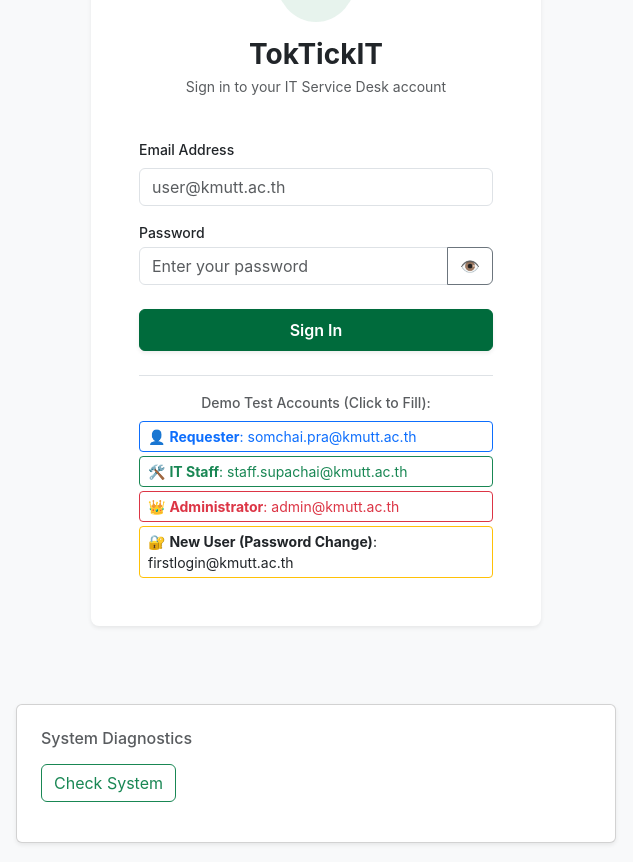
it: TokTickIT App Component › API failure displays a useful error message
(page scrolled)
Click the button "Check System" at (108, 783), box left=41, top=764, right=176, bottom=802
(page scrolled)
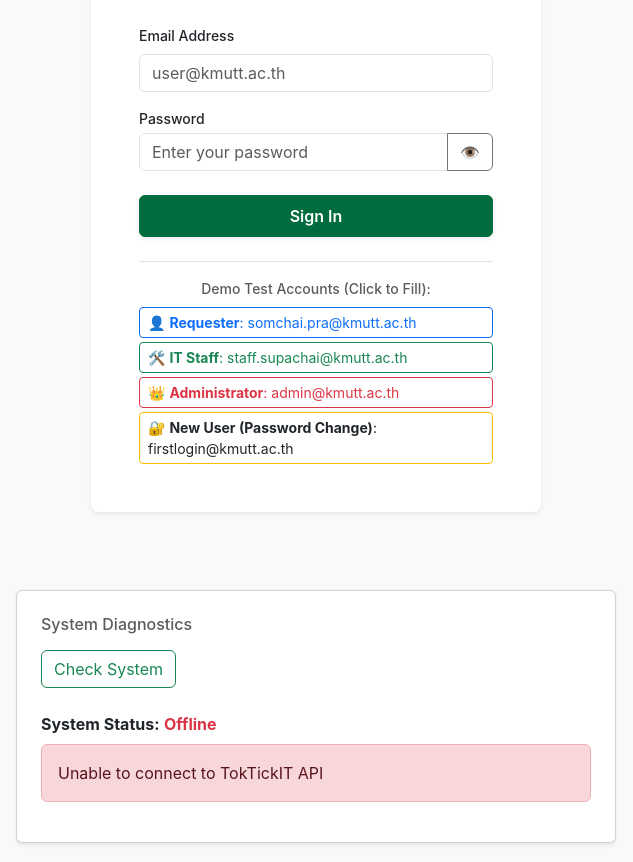
Result: the text "Offline" is shown at left=164, top=714, right=217, bottom=734
Result: the text "Unable to connect to TokTickIT API" is shown at left=41, top=744, right=591, bottom=802
